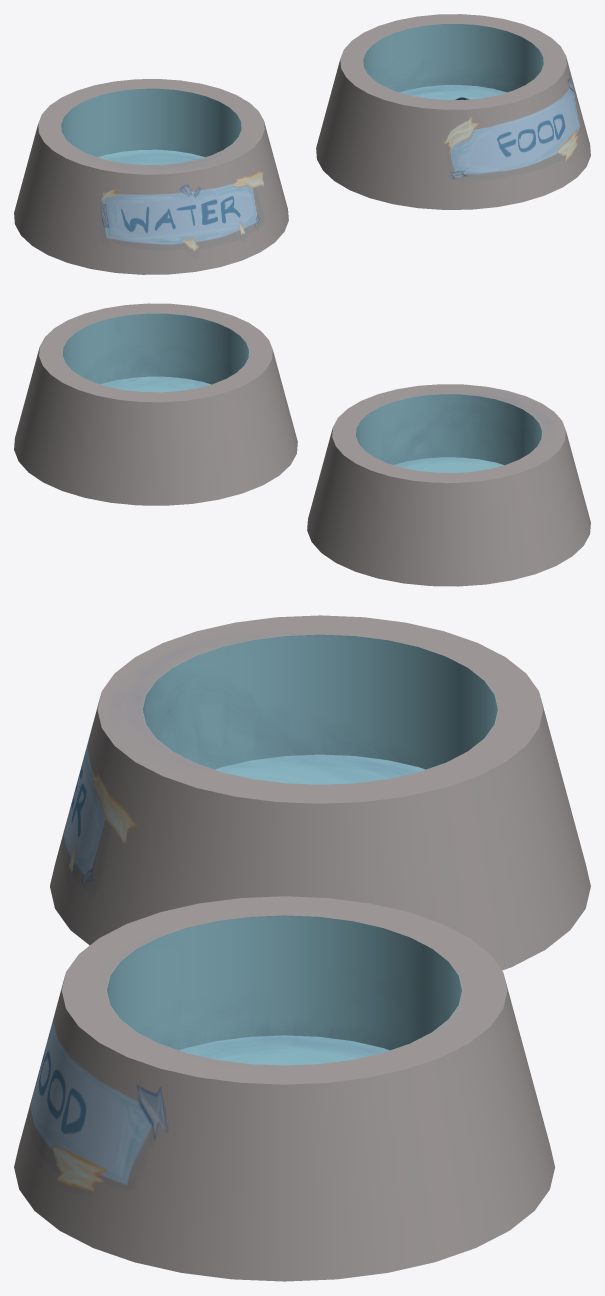
File: Cuenco_Fin.fbx
The picture shows the model from 3 angles, top to bottom: view 1: azimuth 30°, elevation 25°; view 2: azimuth 150°, elevation 25°; view 3: azimuth 270°, elevation 25°; orthographic projection. The views are drawn at different scales.
Visible parts, largest first — view 1: cuencos; view 2: cuencos; view 3: cuencos.
Part boxes in pixels (bbox=[...]): cuencos: bbox=[14, 14, 590, 274]; cuencos: bbox=[14, 303, 590, 586]; cuencos: bbox=[14, 615, 590, 1281].
Bounding box in the file's own units: 20.67 × 3.34 × 9.89.
1 material, 1 textured.
